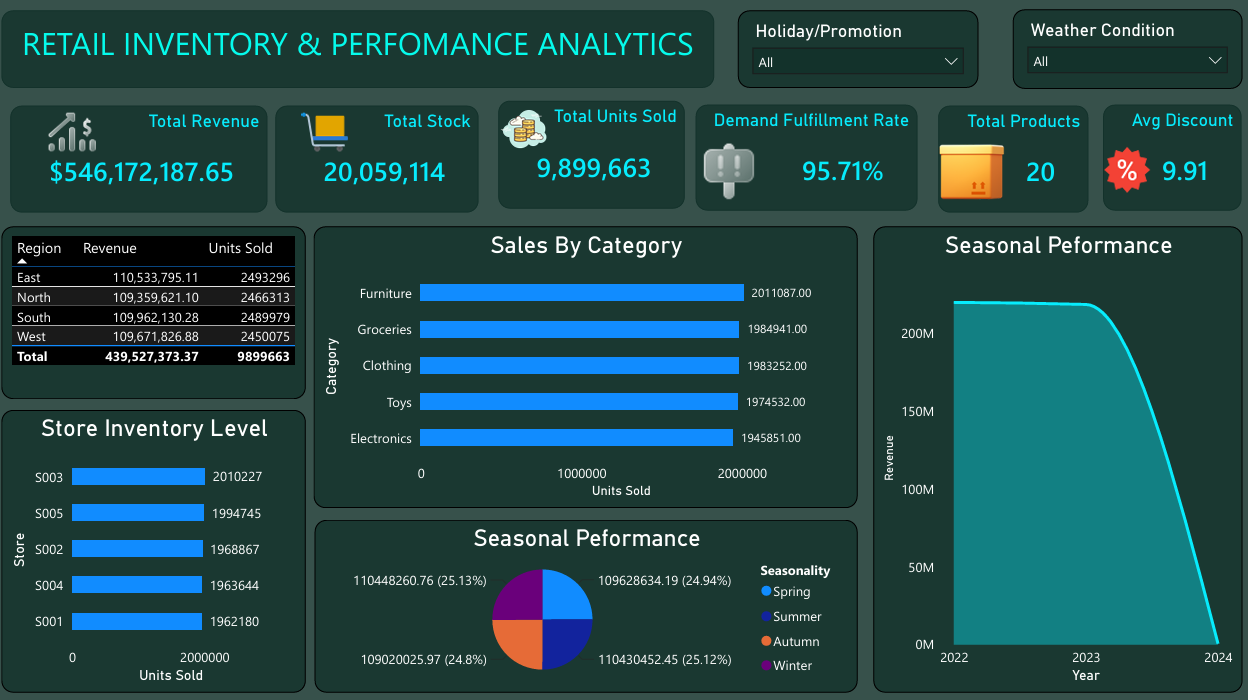

The page's visual inventory and layout, read from the dashboard file:
{"tool":"powerbi","page":{"name":"Page 1","canvas":[1280,720],"ordinal":0},"visuals":[{"type":"textbox","box":[10.3,12,726,79.1],"z":0},{"type":"cardVisual","title":"Total Units Sold","fields":{"Data":["retail_inventory_cleaned.Total Units Sold"]},"box":[515.8,104.3,189.6,110.2],"z":1000,"group":"g6"},{"type":"cardVisual","title":"Total Revenue","fields":{"Data":["retail_inventory_cleaned.Total Revenue"]},"box":[18.9,108.7,261.7,108.7],"z":1000,"group":"g1"},{"type":"cardVisual","title":"Avg Discount","fields":{"Data":["retail_inventory_cleaned.Avg Discount"]},"box":[1132,108.4,141.1,108.4],"z":2000,"group":"g3"},{"type":"cardVisual","title":"Demand Fulfillment Rate","fields":{"Data":["retail_inventory_cleaned.Damand Fulfillment Rate"]},"box":[717.5,108.4,225.4,108.4],"z":3000,"group":"g5"},{"type":"cardVisual","title":"Total Products","fields":{"Data":["retail_inventory_cleaned.Total Products"]},"box":[963.9,108.7,152.8,108.7],"z":4000,"group":"g4"},{"type":"cardVisual","title":"Total Stock","fields":{"Data":["retail_inventory_cleaned.Total Stock"]},"box":[289.5,108.7,207.2,108.7],"z":5000,"group":"g2"},{"type":"pieChart","title":"Seasonal Peformance","fields":{"Category":["retail_inventory_cleaned.Seasonality"],"Y":["Sum(retail_inventory_cleaned.Revenue)"]},"box":[328.9,530.6,553.5,175.9],"z":6000},{"type":"clusteredBarChart","title":"Sales By Category","fields":{"Category":["retail_inventory_cleaned.Category"],"Y":["Sum(retail_inventory_cleaned.Units Sold)"]},"box":[327.5,231.7,554.9,287.5],"z":7000},{"type":"slicer","title":"Sales By Category","fields":{"Values":["retail_inventory_cleaned.Holiday/Promotion"]},"box":[760.4,12,244.3,79.1],"z":8000},{"type":"image","box":[21.9,112,117.6,50],"z":8007,"group":"g1"},{"type":"slicer","title":"Sales By Category","fields":{"Values":["retail_inventory_cleaned.Weather Condition"]},"box":[1039.7,11.4,234.5,80.1],"z":9000},{"type":"tableEx","title":"Inventory by demand Forecast","fields":{"Values":["retail_inventory_cleaned.Region","Sum(retail_inventory_cleaned.Revenue)","Sum(retail_inventory_cleaned.Units Sold)"]},"box":[10,231.7,310.3,175.9],"z":10000},{"type":"lineChart","title":"Seasonal Peformance","fields":{"Category":["retail_inventory_cleaned.Date.Variation.Date Hierarchy.Year","retail_inventory_cleaned.Date.Variation.Date Hierarchy.Month"],"Y":["Sum(retail_inventory_cleaned.Revenue)"]},"box":[898.1,231.7,376.1,474.8],"z":11000},{"type":"clusteredBarChart","title":"Store Inventory Level","fields":{"Y":["Sum(retail_inventory_cleaned.Units Sold)"],"Category":["retail_inventory_cleaned.Store ID"]},"box":[10,419,310.3,287.5],"z":12000},{"type":"image","box":[289.5,110.2,104.3,50],"z":13000,"group":"g2"},{"type":"group","id":"g1","title":"Group 1","box":[18.9,108.7,261.7,108.7],"z":14000},{"type":"image","box":[515.8,105.8,54.4,54.4],"z":15000,"group":"g6"},{"type":"image","box":[717.1,135.2,67.6,82.3],"z":16000,"group":"g5"},{"type":"image","box":[963.9,135.1,67.6,82.3],"z":17000,"group":"g4"},{"type":"image","box":[1131.4,135.2,51.4,79.3],"z":18000,"group":"g3"},{"type":"group","id":"g2","title":"Group 2","box":[289.5,108.7,207.2,108.7],"z":18001},{"type":"group","id":"g3","title":"Group 3","box":[1131.4,108.4,141.7,108.4],"z":18002},{"type":"group","id":"g4","title":"Group 4","box":[963.9,108.7,152.8,108.7],"z":18003},{"type":"group","id":"g5","title":"Group 5","box":[717.1,108.4,225.7,109.1],"z":18004},{"type":"group","id":"g6","title":"Group 6","box":[515.8,104.3,189.6,110.2],"z":18005}]}

Visuals, with their boxes in screenshot pixels (x1, y1, x2, y2), scaled from the page's 1280x720 canvas onto the 1250x700 screenshot:
textbox: left=10, top=12, right=719, bottom=89
"Total Units Sold" cardVisual: left=504, top=101, right=689, bottom=209
"Total Revenue" cardVisual: left=18, top=106, right=274, bottom=211
"Avg Discount" cardVisual: left=1105, top=105, right=1243, bottom=211
"Demand Fulfillment Rate" cardVisual: left=701, top=105, right=921, bottom=211
"Total Products" cardVisual: left=941, top=106, right=1091, bottom=211
"Total Stock" cardVisual: left=283, top=106, right=485, bottom=211
"Seasonal Peformance" pieChart: left=321, top=516, right=862, bottom=687
"Sales By Category" clusteredBarChart: left=320, top=225, right=862, bottom=505
"Sales By Category" slicer: left=743, top=12, right=981, bottom=89
image: left=21, top=109, right=136, bottom=158
"Sales By Category" slicer: left=1015, top=11, right=1244, bottom=89
"Inventory by demand Forecast" tableEx: left=10, top=225, right=313, bottom=396
"Seasonal Peformance" lineChart: left=877, top=225, right=1244, bottom=687
"Store Inventory Level" clusteredBarChart: left=10, top=407, right=313, bottom=687
image: left=283, top=107, right=385, bottom=156
"Group 1" group: left=18, top=106, right=274, bottom=211
image: left=504, top=103, right=557, bottom=156
image: left=700, top=131, right=766, bottom=211
image: left=941, top=131, right=1007, bottom=211
image: left=1105, top=131, right=1155, bottom=209
"Group 2" group: left=283, top=106, right=485, bottom=211
"Group 3" group: left=1105, top=105, right=1243, bottom=211
"Group 4" group: left=941, top=106, right=1091, bottom=211
"Group 5" group: left=700, top=105, right=921, bottom=211
"Group 6" group: left=504, top=101, right=689, bottom=209
